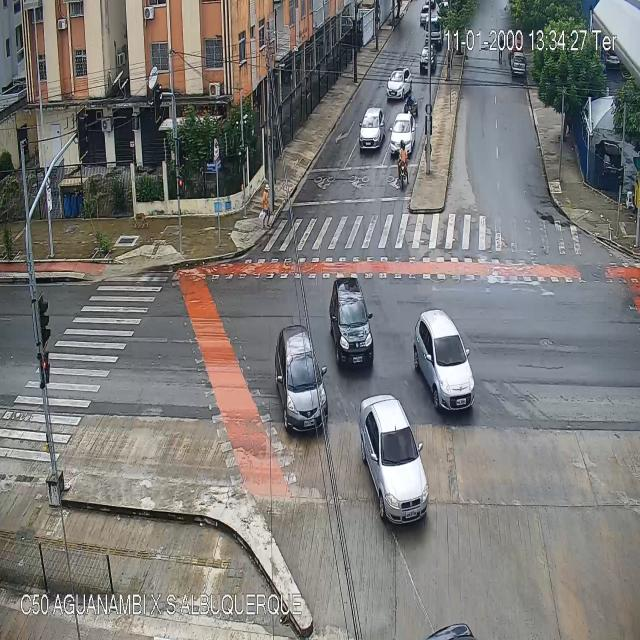Car: (361, 397, 428, 528), (414, 308, 475, 417), (277, 328, 328, 436), (331, 279, 374, 372), (388, 114, 424, 158), (359, 106, 386, 146), (386, 68, 413, 100), (397, 140, 410, 187), (420, 45, 437, 74), (512, 56, 526, 75), (419, 4, 428, 23)
Motorcycle: (405, 98, 418, 117)
Truck: (423, 17, 442, 46)
